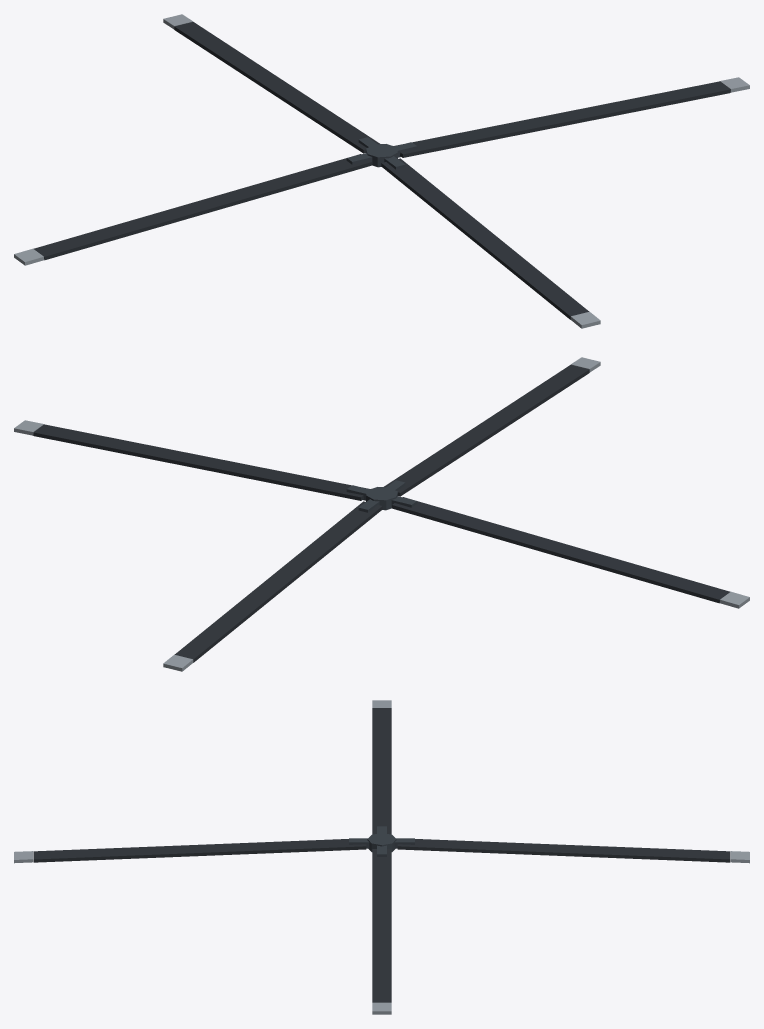
The model's file is veh_lantern_rotor.fbx.
3 views of the same model, one above another, from view 1: azimuth 30°, elevation 25°; view 2: azimuth 150°, elevation 25°; view 3: azimuth 270°, elevation 25° (orthographic). The views are drawn at different scales.
Parts seen in each view (by area): view 1: veh_lantern_rotor; view 2: veh_lantern_rotor; view 3: veh_lantern_rotor.
Boxes of the visible parts, left/top/right/bottom form: veh_lantern_rotor: left=14, top=14, right=749, bottom=328; veh_lantern_rotor: left=14, top=357, right=749, bottom=671; veh_lantern_rotor: left=14, top=700, right=749, bottom=1014.
Bounding box in the file's own units: 3801 × 114 × 3801.
